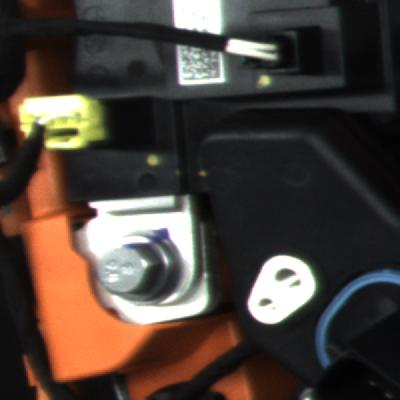nut_b: (93, 223, 191, 299)
